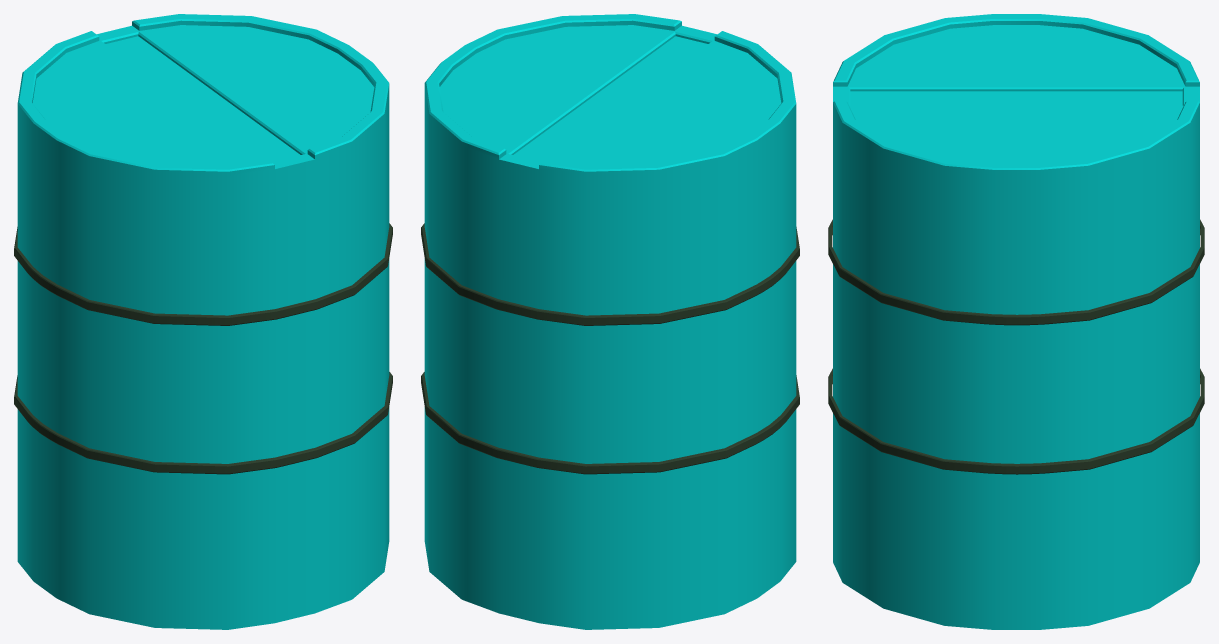
File: SM_Barrel01.fbx
3 views of the same model, side by side, from view 1: azimuth 30°, elevation 25°; view 2: azimuth 150°, elevation 25°; view 3: azimuth 270°, elevation 25° (orthographic).
Parts seen in each view (by area): view 1: SM_Barrel01; view 2: SM_Barrel01; view 3: SM_Barrel01.
Boxes of the visible parts, x1,y1,x2,y2 form: SM_Barrel01: [14, 14, 392, 629]; SM_Barrel01: [421, 14, 799, 629]; SM_Barrel01: [828, 14, 1204, 629].
Size of the model in its own units: 764 by 761 by 1030.
